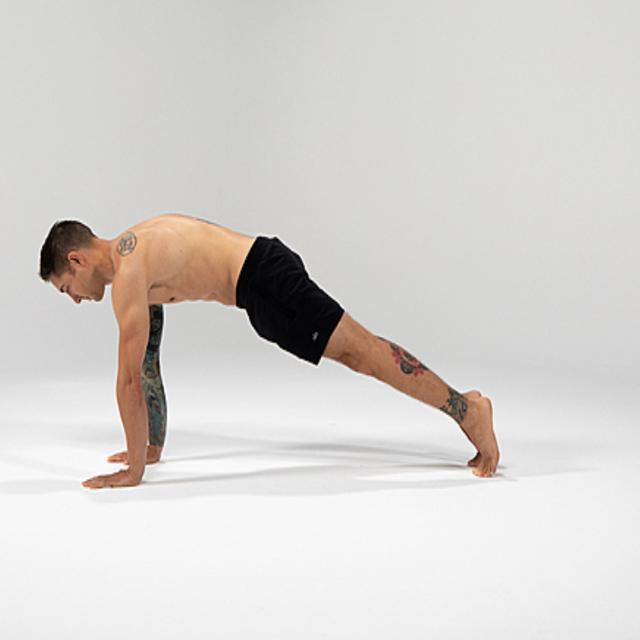Plank_Pose: (40, 209, 516, 493)
